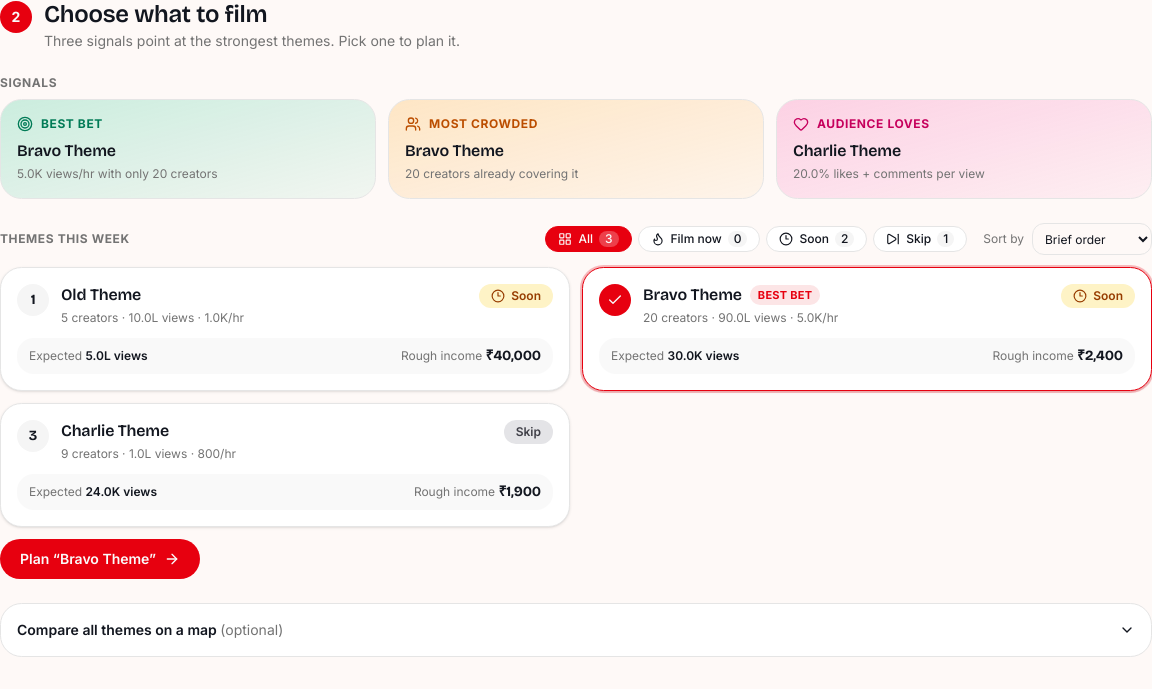
the Examples tab › (regression) older briefs without the extra fields still render with just the basics
(page scrolled)
Click the button "Old Theme". click: (33, 300)
box: [0, 267, 570, 391]
(page scrolled)
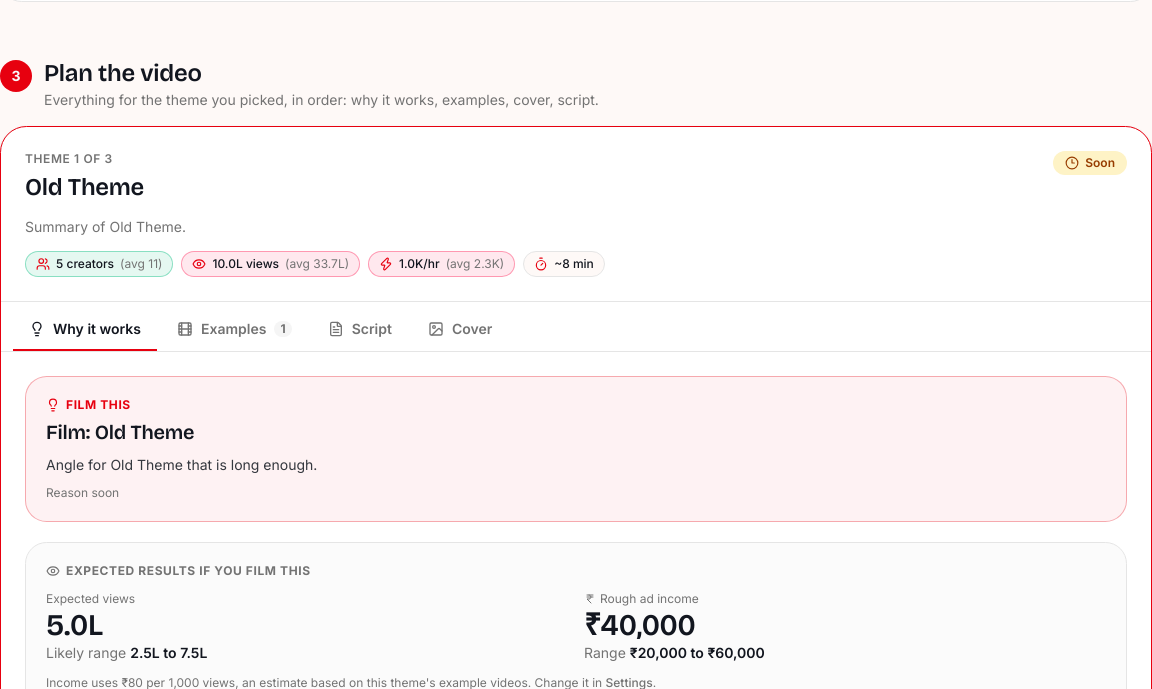
Click the tab "Examples 1". click: (234, 330)
box: [161, 309, 308, 351]
(page scrolled)
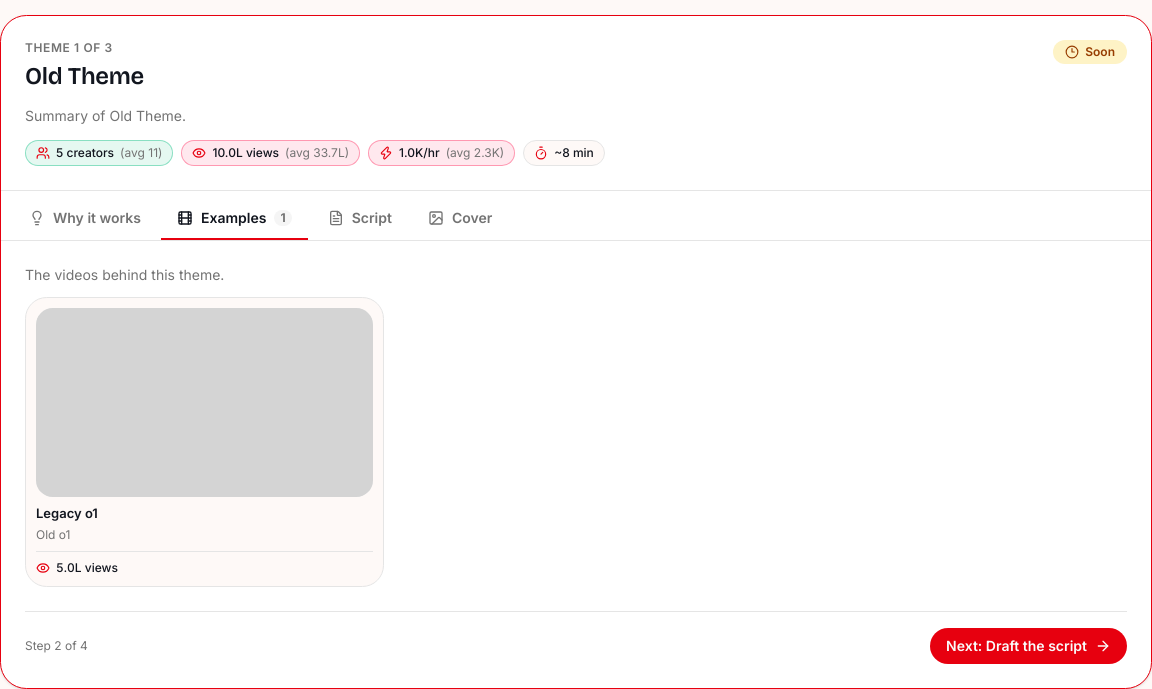
Expected: the text "Legacy o1" is shown, [36, 506, 98, 522]
Expected: the panel shows "5.0L views", [56, 560, 118, 575]
